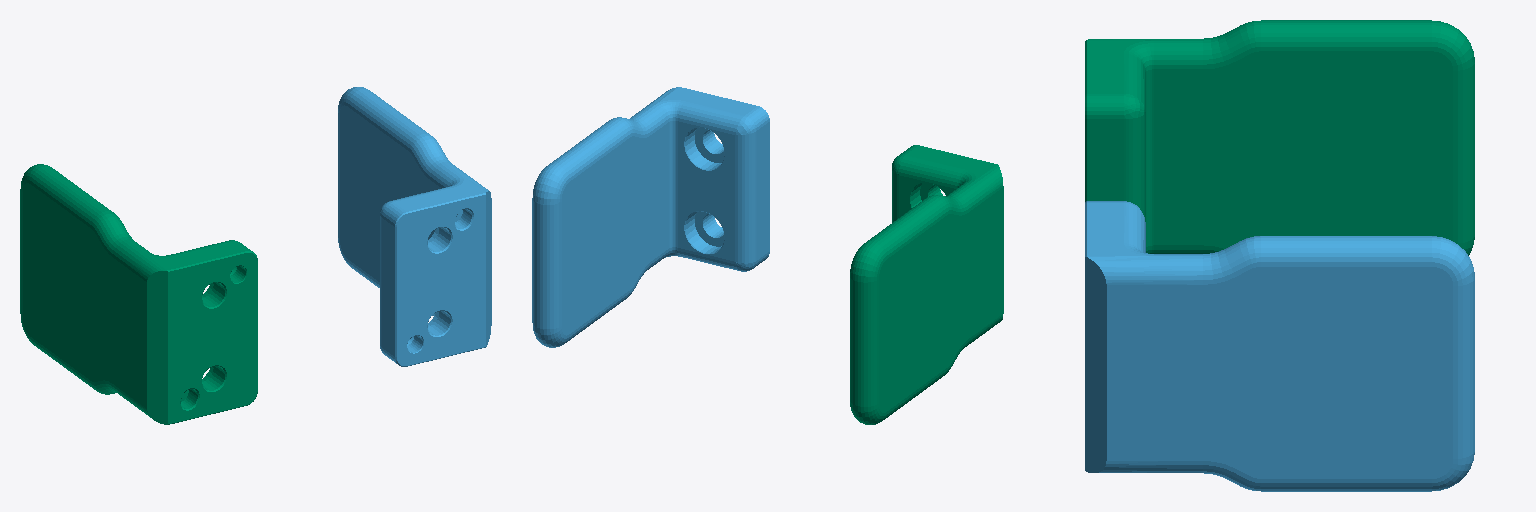
robot.urdf — gripper_2f:
<?xml version="1.0"?>

<robot name="gripper_2f">

  <link name="base_gripper">
    <visual>
      <origin rpy="0 0 0" xyz="0 0 0"/>
      <geometry>
        <mesh filename="package://my_gripper_description/meshes/gripper_body.dae"/>
      </geometry>
    </visual>
    <collision>
      <origin rpy="0 0 0" xyz="0 0 0"/>
      <geometry>
        <mesh filename="package://my_gripper_description/meshes/gripper_body.stl" scale="0.001 0.001 0.001"/>
      </geometry>
    </collision>
    <inertial>
      <origin xyz="0 0.06 0.04" rpy="0 0 0"/>
      <mass value="0.5"/>
      <inertia
        ixx="0.01" ixy="0.0" ixz="0.0"
        iyy="0.01" iyz="0.0"
        izz="0.01"/>
  	</inertial>
  </link>

  <link name="finger_1">
    <visual>
      <origin rpy="0 0 0" xyz="0 0 0"/>
      <geometry>
          <mesh filename="package://my_gripper_description/meshes/finger_1.stl" scale="0.001 0.001 0.001"/>
      </geometry>
    </visual>
    <collision>
      <origin rpy="0 0 0" xyz="0 0 0"/>
      <geometry>
          <mesh filename="package://my_gripper_description/meshes/finger_1.stl" scale="0.001 0.001 0.001"/>
      </geometry>
    </collision>
    <inertial>
      <origin xyz="0 0 0.05" rpy="0 0 0"/>
      <mass value="0.01"/>
      <inertia
        ixx="0.001" ixy="0.0" ixz="0.0"
        iyy="0.001" iyz="0.0"
        izz="0.001"/>
      </inertial>
  </link>

  <link name="finger_2">
    <visual>
      <origin rpy="0 0 0" xyz="0 0 0"/>
      <geometry>
          <mesh filename="package://my_gripper_description/meshes/finger_2.stl" scale="0.001 0.001 0.001"/>
      </geometry>
    </visual>
    <collision>
     <origin rpy="0 0 0" xyz="0 0 0"/>
      <geometry>
          <mesh filename="package://my_gripper_description/meshes/finger_2.stl" scale="0.001 0.001 0.001"/>
      </geometry>
    </collision>
    <inertial>
      <origin xyz="0 0 0.05" rpy="0 0 0"/>
      <mass value="0.01"/>
      <inertia
        ixx="0.001" ixy="0.0" ixz="0.0"
        iyy="0.001" iyz="0.0"
        izz="0.001"/>
      </inertial>
  </link>

  <joint name="base_to_finger_1" type="prismatic">
    <parent link="base_gripper"/>
    <child link="finger_1"/>  
    <axis xyz="1 0 0"/>
    <origin rpy="0 0 0" xyz="0.022 0.111 0"/>
	  <limit effort="100" velocity="100" lower="-0.01" upper="0.0"/>

  </joint>
  <transmission name="trans_base_to_finger_1">
      <type> transmission_interface/SimpleTransmission </type>
      <joint name="base_to_finger_1">
        <hardwareInterface> hardware_interface/EffortJointInterface </hardwareInterface>
      </joint>
      <actuator name="motor_base_to_finger_1">
        <hardwareInterface> hardware_interface/EffortJointInterface </hardwareInterface>
        <mechanicalReduction> 1 </mechanicalReduction>
      </actuator>
   </transmission>

  <joint name="base_to_finger_2" type="prismatic">
    <parent link="base_gripper"/>
    <child link="finger_2"/>  
    <axis xyz="1 0 0"/>
    <origin rpy="0 0 0" xyz="-0.022 0.111 0"/>
  	<limit effort="100" velocity="100" lower="0.0" upper="0.01"/>   
    <!--mimic joint="base_to_finger_1" multiplier="-1.0" offset="0"/-->

  </joint>
  <transmission name="trans_base_to_finger_2">
      <type> transmission_interface/SimpleTransmission </type>
      <joint name="base_to_finger_2">
        <hardwareInterface> hardware_interface/EffortJointInterface </hardwareInterface>
      </joint>
      <actuator name="motor_base_to_finger_2">
        <hardwareInterface> hardware_interface/EffortJointInterface </hardwareInterface>
        <mechanicalReduction> 1 </mechanicalReduction>
      </actuator>
  </transmission>

  <gazebo reference="finger_1">
    <material>Gazebo/Grey</material>
  </gazebo>
  <gazebo reference="finger_2">
    <material>Gazebo/Grey</material>
  </gazebo>


</robot>

--- Render facts (derived) ---
3 views of the same robot in one strip: view 1: azimuth 30°, elevation 25°; view 2: azimuth 150°, elevation 25°; view 3: azimuth 270°, elevation 25° (orthographic).
Model gripper_2f with 3 links and 2 joints (2 prismatic), rooted at base_gripper, posed every joint at zero.
Visible links, largest first — view 1: finger_2, finger_1; view 2: finger_1, finger_2; view 3: finger_1, finger_2.
Link boxes in pixels (x1=…): finger_2: x1=20, y1=164, x2=257, y2=424; finger_1: x1=338, y1=87, x2=491, y2=366; finger_1: x1=532, y1=87, x2=769, y2=347; finger_2: x1=850, y1=145, x2=1003, y2=424; finger_1: x1=1085, y1=201, x2=1474, y2=491; finger_2: x1=1085, y1=20, x2=1474, y2=255.
Size in the robot's own frame: 0.0638 by 0.045 by 0.032 metres.
Meshes: 3 distinct files referenced, 2 mesh visuals loaded (2 binary STL); not drawn: 1 (reference not matched to a file when rendering).